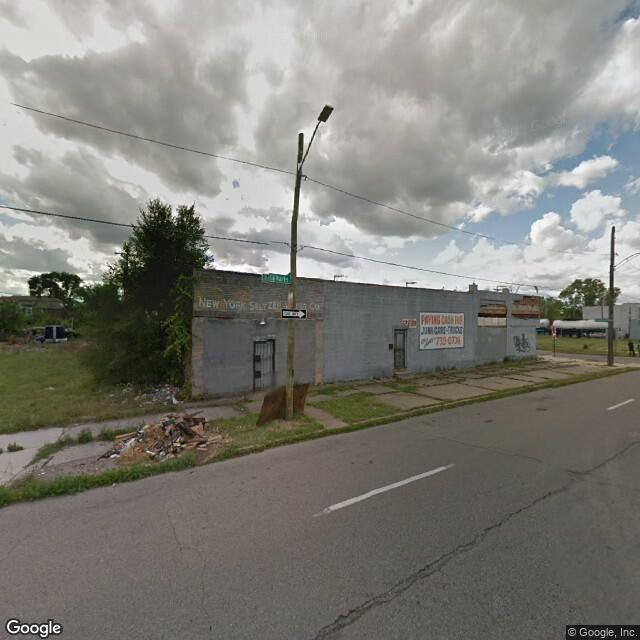litter: (117, 414, 206, 461), (147, 388, 178, 403)
